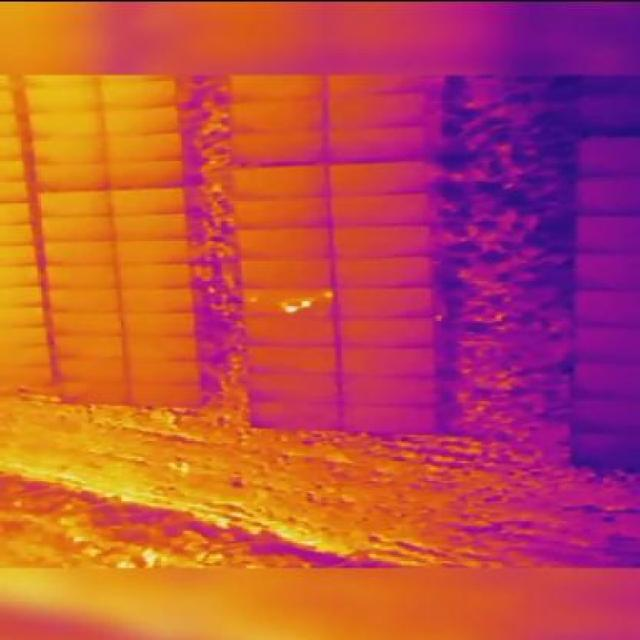panel: (325, 123, 437, 164), (325, 88, 437, 129), (326, 158, 436, 198), (328, 189, 436, 228), (332, 221, 438, 259), (227, 162, 329, 201), (227, 95, 327, 134), (228, 127, 328, 166), (334, 284, 437, 321), (333, 253, 436, 290), (336, 343, 441, 379), (236, 286, 339, 321), (236, 254, 336, 290), (340, 401, 442, 436), (338, 373, 440, 408), (235, 224, 334, 260), (335, 316, 438, 350), (243, 370, 342, 405), (243, 398, 342, 433), (230, 195, 331, 229), (243, 343, 342, 376), (240, 315, 339, 347), (30, 160, 109, 194), (104, 157, 187, 189), (102, 131, 185, 163), (100, 102, 183, 134), (98, 77, 181, 109), (20, 81, 102, 113), (22, 107, 104, 139), (28, 133, 106, 166), (33, 187, 111, 219), (37, 212, 115, 244), (110, 211, 190, 241), (109, 185, 189, 215), (121, 333, 200, 363), (119, 309, 198, 338), (41, 261, 119, 290), (44, 287, 122, 316), (39, 238, 118, 266), (117, 285, 196, 313), (115, 260, 194, 288), (114, 238, 193, 266), (51, 356, 129, 384), (52, 379, 130, 407), (126, 380, 204, 408), (124, 357, 202, 385), (47, 311, 123, 338), (51, 333, 127, 360)
